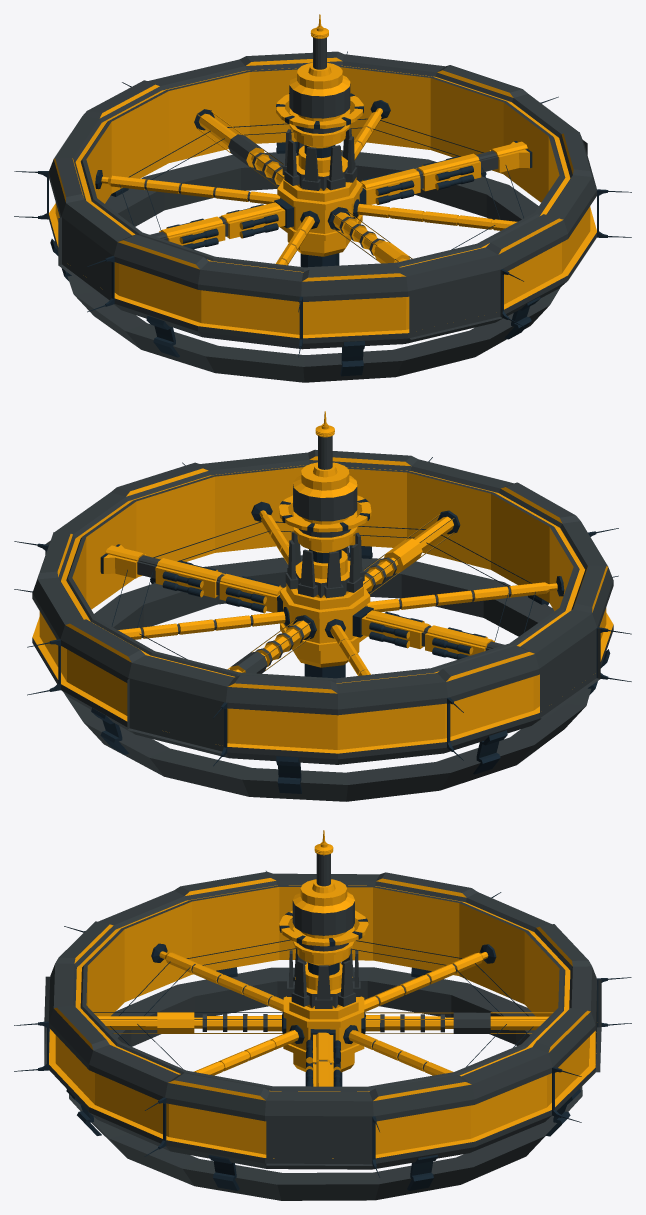
Rendered from Station 1.fbx.
The picture shows the model from 3 angles, top to bottom: view 1: azimuth 30°, elevation 25°; view 2: azimuth 150°, elevation 25°; view 3: azimuth 270°, elevation 25°; orthographic projection. The views are drawn at different scales.
Visible parts, largest first — view 1: 3.Big circle.005, 4.Lower circle.002, 2.Gateway.010, 2.Gateway.006, 1.Headquarters.001, 3.Big circle.006, 2.Gateway.008, 2.Gateway.011, 5.Fastenings.001, Cube.024; view 2: 3.Big circle.005, 4.Lower circle.002, 2.Gateway.010, 2.Gateway.006, 1.Headquarters.001, 3.Big circle.006, 2.Gateway.008, 2.Gateway.011, 5.Fastenings.001, Cube.024, Cylinder.012; view 3: 3.Big circle.005, 4.Lower circle.002, 2.Gateway.011, 1.Headquarters.001, 2.Gateway.006, 2.Gateway.008, 3.Big circle.006, 5.Fastenings.001, 2.Gateway.010, Cube.024, Cylinder.014, Cylinder.012.
Boxes of the visible parts, box(x1,y1,x2,y2) form: 3.Big circle.005: box(48, 51, 596, 349); 4.Lower circle.002: box(67, 150, 560, 382); 2.Gateway.010: box(150, 141, 532, 249); 2.Gateway.006: box(277, 128, 362, 267); 1.Headquarters.001: box(276, 14, 363, 172); 3.Big circle.006: box(58, 140, 587, 339); 2.Gateway.008: box(101, 108, 517, 265); 2.Gateway.011: box(194, 109, 412, 263); 5.Fastenings.001: box(50, 141, 540, 376); Cube.024: box(14, 51, 631, 357); 3.Big circle.005: box(32, 449, 613, 764); 4.Lower circle.002: box(64, 555, 591, 801); 2.Gateway.010: box(100, 544, 504, 659); 2.Gateway.006: box(280, 531, 370, 678); 1.Headquarters.001: box(279, 411, 371, 578); 3.Big circle.006: box(45, 540, 600, 753); 2.Gateway.008: box(118, 510, 557, 675); 2.Gateway.011: box(227, 510, 460, 673); 5.Fastenings.001: box(91, 545, 610, 793); Cube.024: box(14, 457, 631, 766); Cylinder.012: box(111, 521, 535, 632); 3.Big circle.005: box(48, 871, 597, 1169); 4.Lower circle.002: box(69, 967, 582, 1200); 2.Gateway.011: box(93, 1011, 553, 1033); 1.Headquarters.001: box(279, 830, 368, 990); 2.Gateway.006: box(283, 948, 364, 1086); 2.Gateway.008: box(159, 951, 488, 1075); 3.Big circle.006: box(44, 976, 601, 1165); 5.Fastenings.001: box(66, 967, 580, 1190); 2.Gateway.010: box(306, 962, 341, 1086); Cube.024: box(14, 871, 631, 1177); Cylinder.014: box(137, 948, 506, 1068); Cylinder.012: box(110, 939, 533, 1047).
Bounding box in the file's own units: 19.81 × 10.99 × 19.81.
